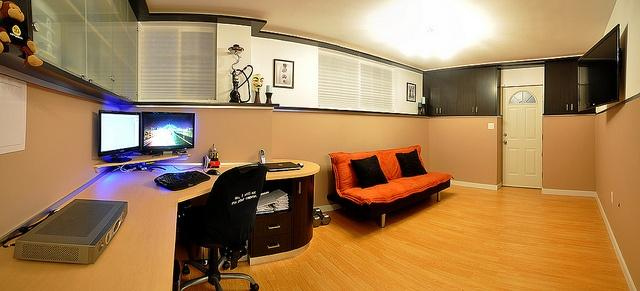AIO PC-Monitor-TV: (575, 22, 621, 112), (141, 110, 195, 156), (96, 108, 141, 162)
